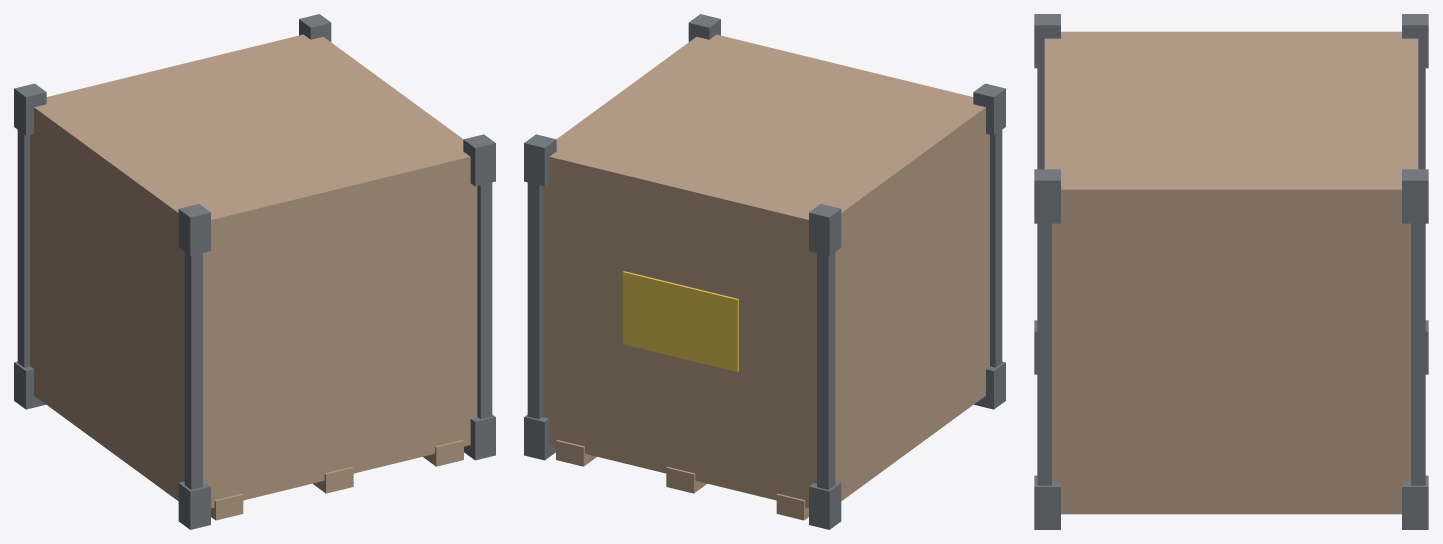
The model's file is Warehouse_Cargo_Crate.fbx.
3 views of the same model, side by side, from view 1: azimuth 30°, elevation 25°; view 2: azimuth 150°, elevation 25°; view 3: azimuth 270°, elevation 25° (orthographic). The views are drawn at different scales.
Parts seen in each view (by area): view 1: Crate_Body, Edge_Post_-0.63_-0.63, Edge_Post_0.63_-0.63, Edge_Post_-0.63_0.63, Corner_Bracket_-0.62_-0.62_1.22, Corner_Bracket_-0.62_-0.62_0.08, Corner_Bracket_0.62_-0.62_1.22, Corner_Bracket_-0.62_0.62_1.22, Corner_Bracket_0.62_-0.62_0.08, Corner_Bracket_-0.62_0.62_0.08, Skid_Rail_0.0, Corner_Bracket_0.62_0.62_1.22 (+2 smaller); view 2: Crate_Body, Hazard_Stencil_Plate, Edge_Post_-0.63_0.63, Edge_Post_0.63_0.63, Edge_Post_-0.63_-0.63, Corner_Bracket_-0.62_0.62_1.22, Corner_Bracket_-0.62_0.62_0.08, Corner_Bracket_0.62_0.62_1.22, Corner_Bracket_-0.62_-0.62_1.22, Corner_Bracket_0.62_0.62_0.08, Corner_Bracket_-0.62_-0.62_0.08, Skid_Rail_0.0 (+3 smaller); view 3: Crate_Body, Edge_Post_0.63_-0.63, Edge_Post_0.63_0.63, Corner_Bracket_0.62_-0.62_1.22, Corner_Bracket_0.62_0.62_1.22, Corner_Bracket_0.62_-0.62_0.08, Corner_Bracket_0.62_0.62_0.08, Skid_Rail_0.48, Corner_Bracket_-0.62_-0.62_1.22, Corner_Bracket_-0.62_0.62_1.22, Edge_Post_-0.63_-0.63, Edge_Post_-0.63_0.63.
Boxes of the visible parts, <box> form: Crate_Body: <box>30,34,477,508</box>; Edge_Post_-0.63_-0.63: <box>184,252,202,489</box>; Edge_Post_0.63_-0.63: <box>477,182,492,419</box>; Edge_Post_-0.63_0.63: <box>17,130,29,367</box>; Corner_Bracket_-0.62_-0.62_1.22: <box>178,204,210,255</box>; Corner_Bracket_-0.62_-0.62_0.08: <box>178,481,210,529</box>; Corner_Bracket_0.62_-0.62_1.22: <box>463,134,495,186</box>; Corner_Bracket_-0.62_0.62_1.22: <box>14,83,46,135</box>; Corner_Bracket_0.62_-0.62_0.08: <box>464,414,495,460</box>; Corner_Bracket_-0.62_0.62_0.08: <box>14,361,45,409</box>; Skid_Rail_0.0: <box>313,467,353,493</box>; Corner_Bracket_0.62_0.62_1.22: <box>299,14,331,41</box>; Crate_Body: <box>542,34,989,508</box>; Hazard_Stencil_Plate: <box>622,271,738,371</box>; Edge_Post_-0.63_0.63: <box>817,252,835,489</box>; Edge_Post_0.63_0.63: <box>527,182,542,419</box>; Edge_Post_-0.63_-0.63: <box>990,130,1002,367</box>; Corner_Bracket_-0.62_0.62_1.22: <box>809,204,841,255</box>; Corner_Bracket_-0.62_0.62_0.08: <box>809,481,841,529</box>; Corner_Bracket_0.62_0.62_1.22: <box>524,134,556,186</box>; Corner_Bracket_-0.62_-0.62_1.22: <box>973,83,1005,135</box>; Corner_Bracket_0.62_0.62_0.08: <box>524,414,555,460</box>; Corner_Bracket_-0.62_-0.62_0.08: <box>974,361,1005,409</box>; Skid_Rail_0.0: <box>666,467,706,493</box>; Crate_Body: <box>1044,31,1418,512</box>; Edge_Post_0.63_-0.63: <box>1037,223,1051,485</box>; Edge_Post_0.63_0.63: <box>1411,223,1425,485</box>; Corner_Bracket_0.62_-0.62_1.22: <box>1034,169,1060,223</box>; Corner_Bracket_0.62_0.62_1.22: <box>1402,169,1428,223</box>; Corner_Bracket_0.62_-0.62_0.08: <box>1034,475,1060,529</box>; Corner_Bracket_0.62_0.62_0.08: <box>1402,475,1428,529</box>; Skid_Rail_0.48: <box>1061,512,1401,514</box>; Corner_Bracket_-0.62_-0.62_1.22: <box>1034,14,1060,68</box>; Corner_Bracket_-0.62_0.62_1.22: <box>1402,14,1428,68</box>; Edge_Post_-0.63_-0.63: <box>1037,68,1044,169</box>; Edge_Post_-0.63_0.63: <box>1418,68,1425,169</box>.
Bounding box in the file's own units: 1.33 × 1.3 × 1.33.
